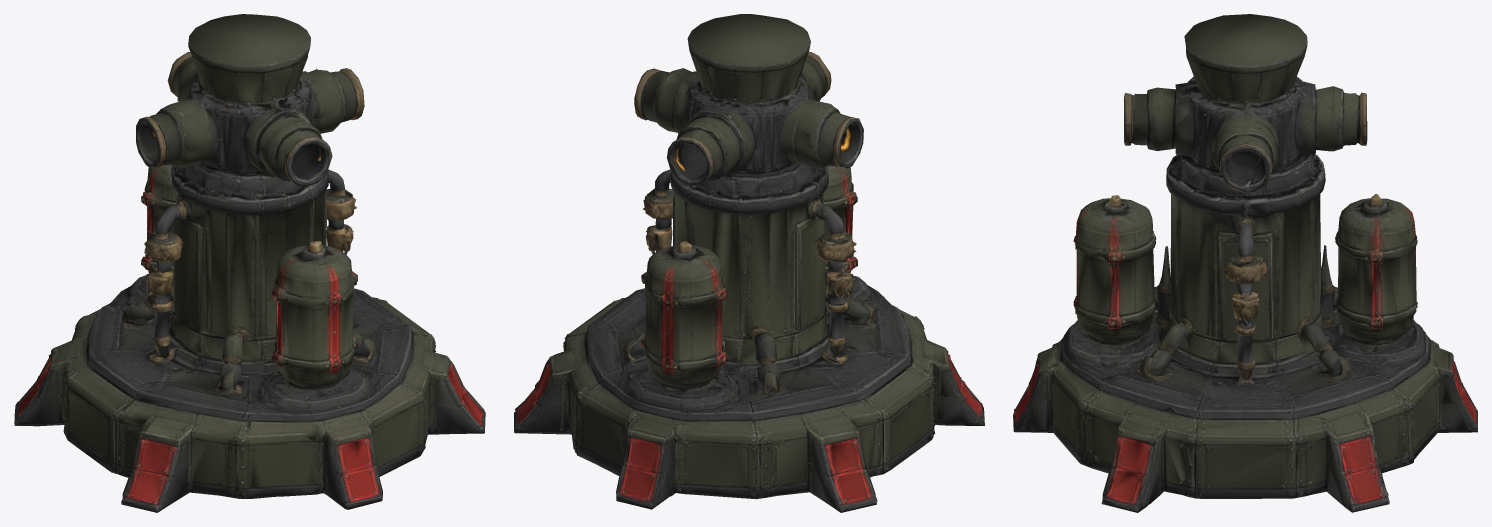
Rendered from flame-tower.glb.
3 renders of one model, left to right at view 1: azimuth 30°, elevation 25°; view 2: azimuth 150°, elevation 25°; view 3: azimuth 270°, elevation 25°, orthographic.
Parts seen in each view (by area): view 1: mesh_node; view 2: mesh_node; view 3: mesh_node.
Boxes of the visible parts, x1,y1,x2,y2 form: mesh_node: (14, 14, 485, 512); mesh_node: (514, 14, 984, 512); mesh_node: (1013, 14, 1477, 512).
Size of the model in its own units: 1.82 by 1.83 by 2.
Materials: 1 (1 with a texture image).
